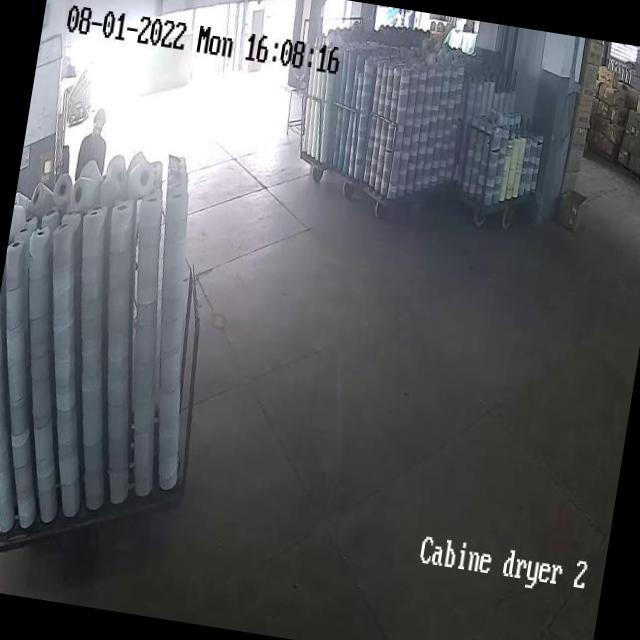person: (75, 108, 110, 182)
